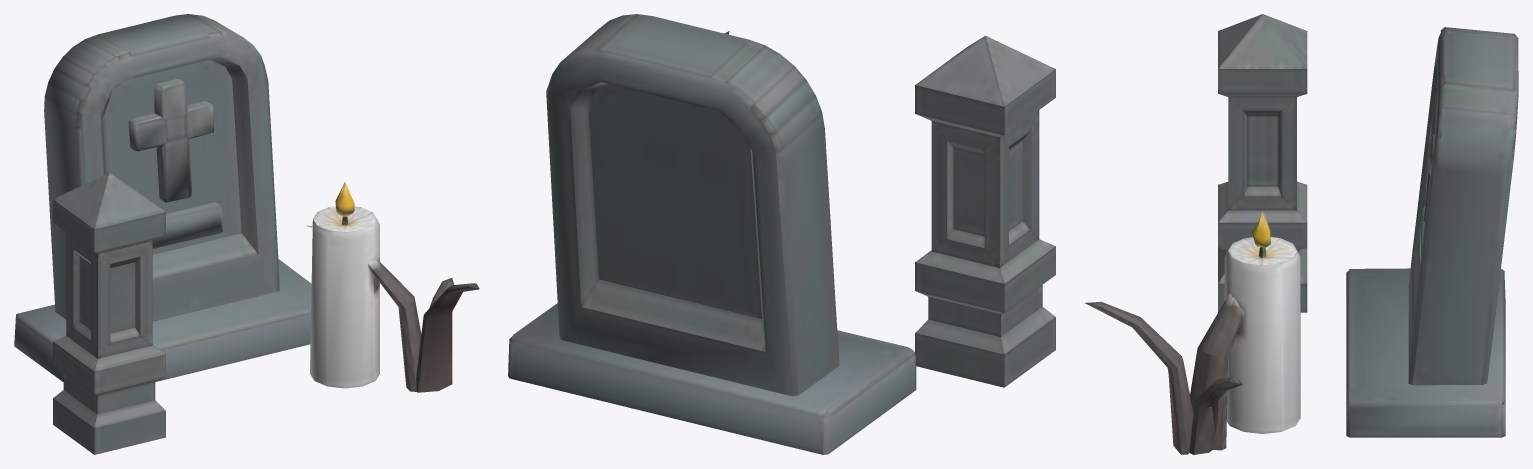
The model's file is graveyard-corner.lod.glb.
3 views of the same model, side by side, from view 1: azimuth 30°, elevation 25°; view 2: azimuth 150°, elevation 25°; view 3: azimuth 270°, elevation 25° (orthographic). The views are drawn at different scales.
Parts seen in each view (by area): view 1: gravestone; view 2: gravestone; view 3: gravestone.
Boxes of the visible parts, <box> form: gravestone: <box>14,14,479,454</box>; gravestone: <box>508,14,1055,454</box>; gravestone: <box>1085,14,1518,454</box>.
Size of the model in its own units: 1.41 by 1.07 by 1.33.
1 material, 1 textured.
